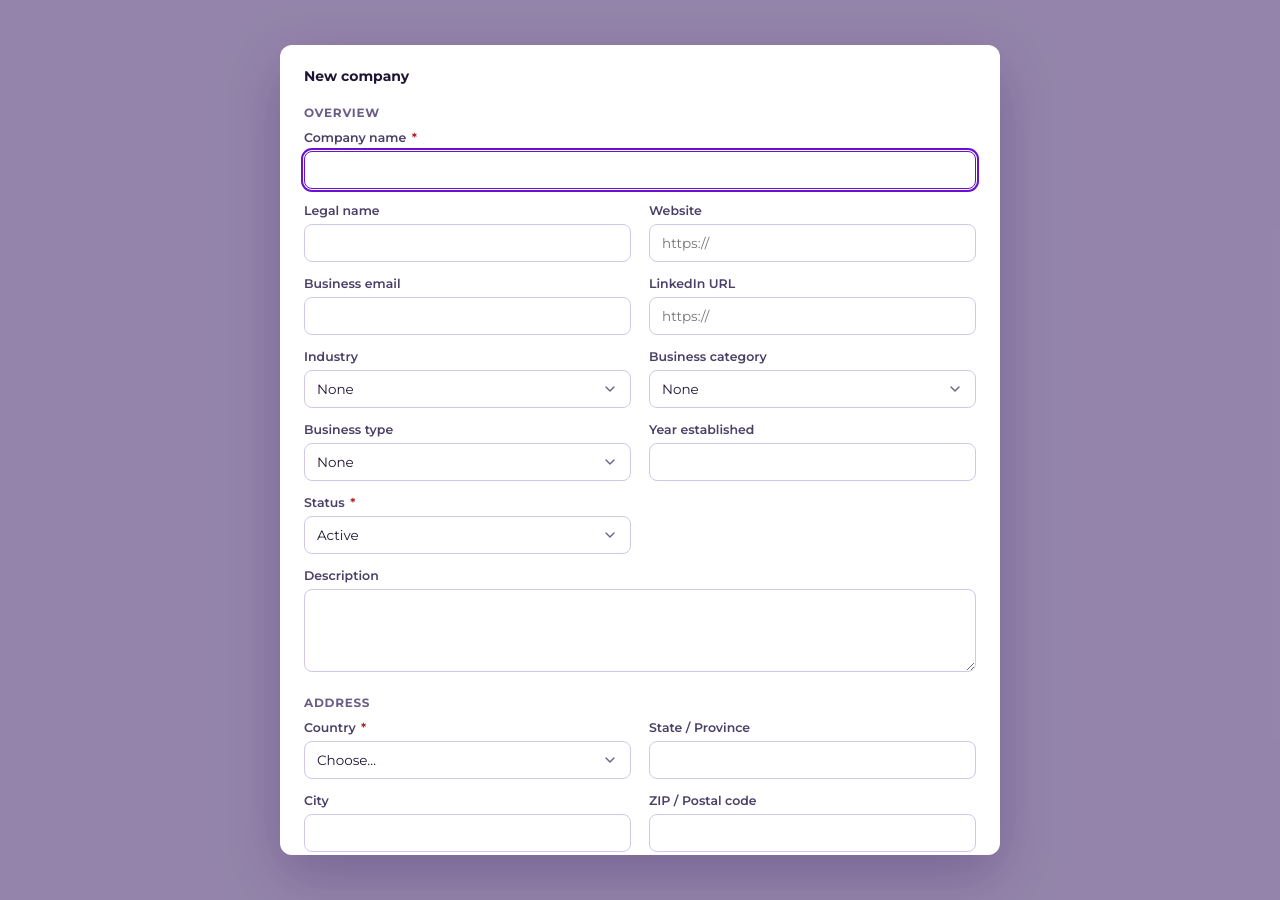
Test: CompanyModal › shows the field message and the form note for a 400 with array issue paths
The width and height of the screenshot is (1280, 900).
Type "Acme Retail" into the field labelled "Company name *" at (640, 170), box [304, 151, 976, 189]
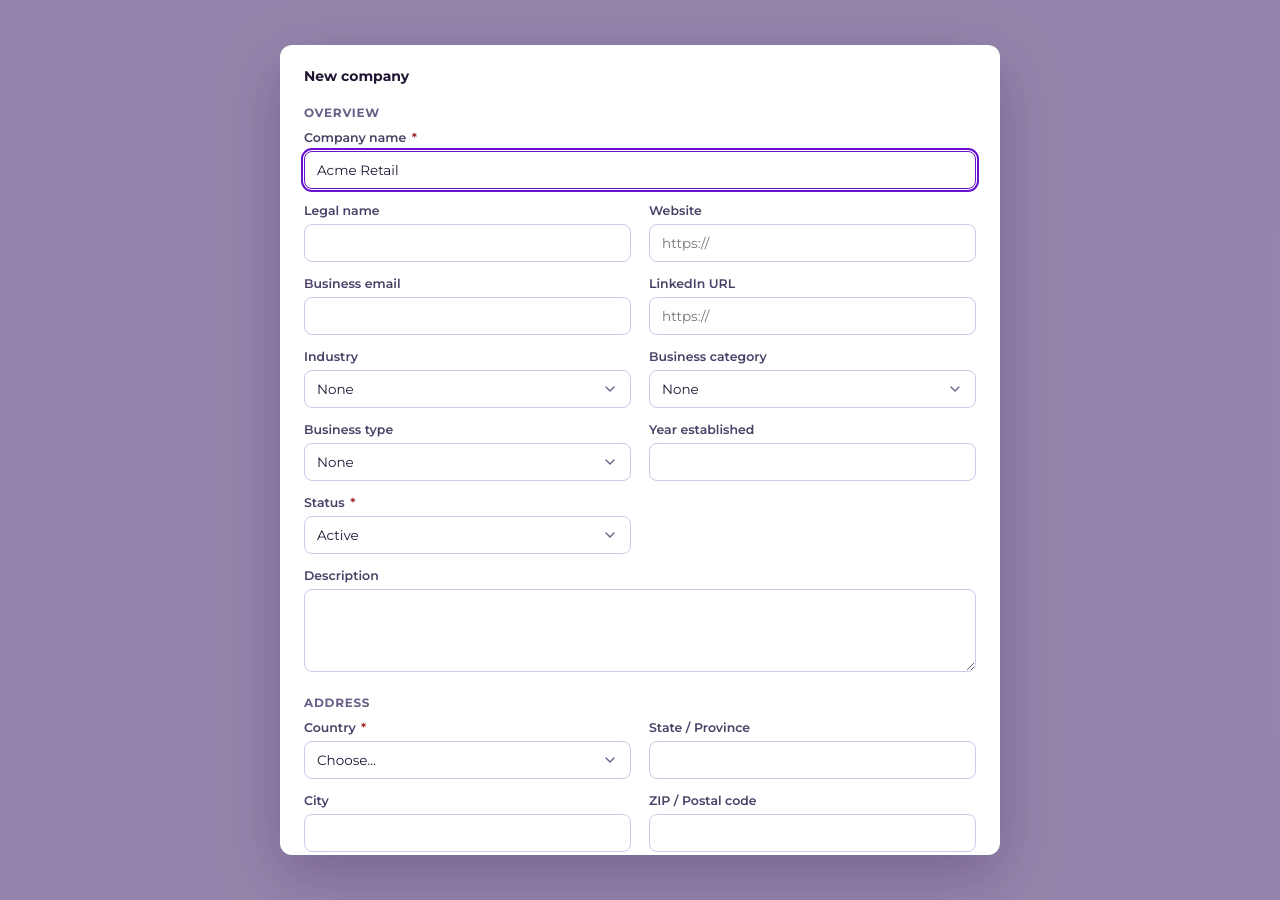
Select "India" in the dropdown labelled "Country *" at (468, 760), box [304, 741, 631, 779]
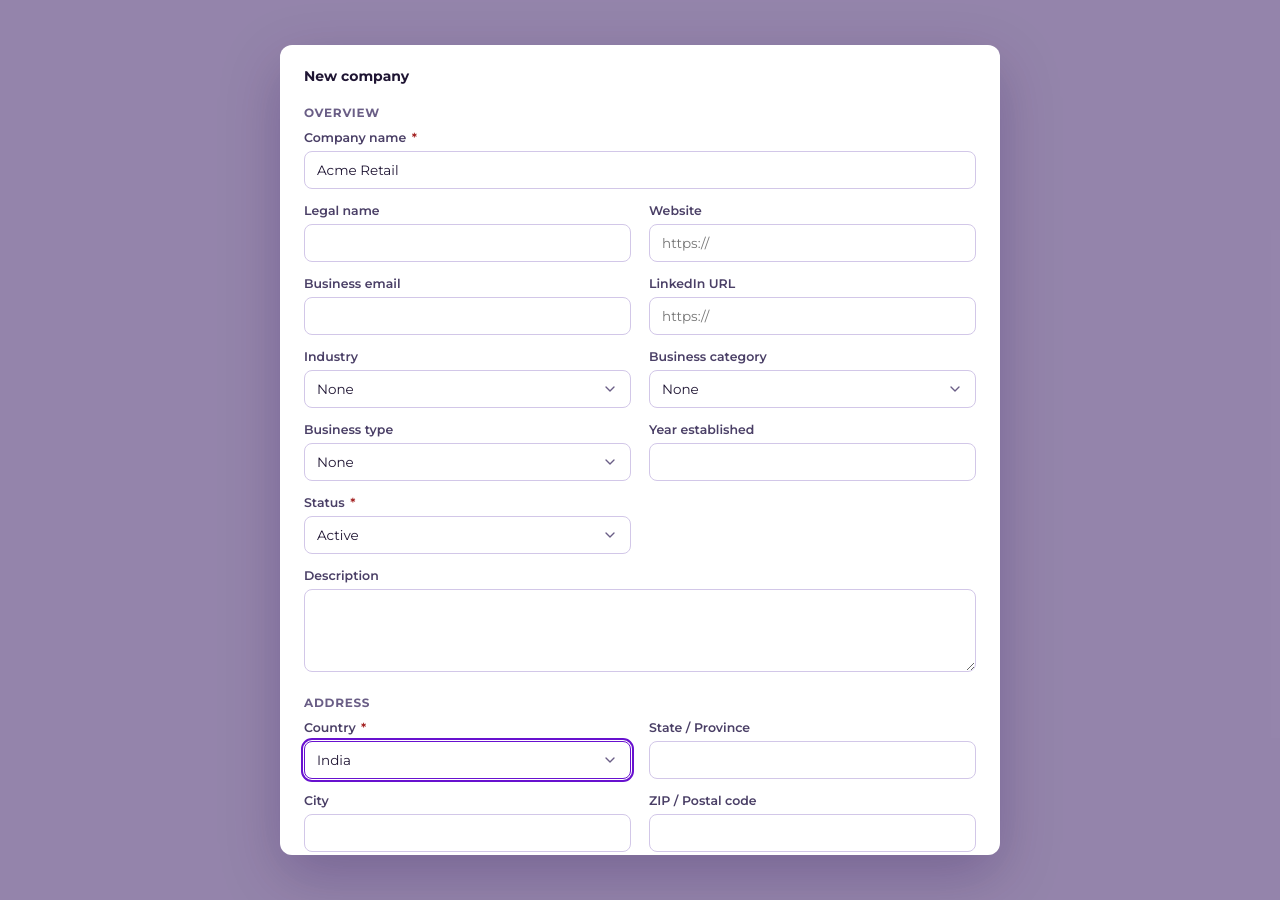
Select "Retail" in the dropdown labelled "Industry" at (468, 389), box [304, 370, 631, 408]
(page scrolled)
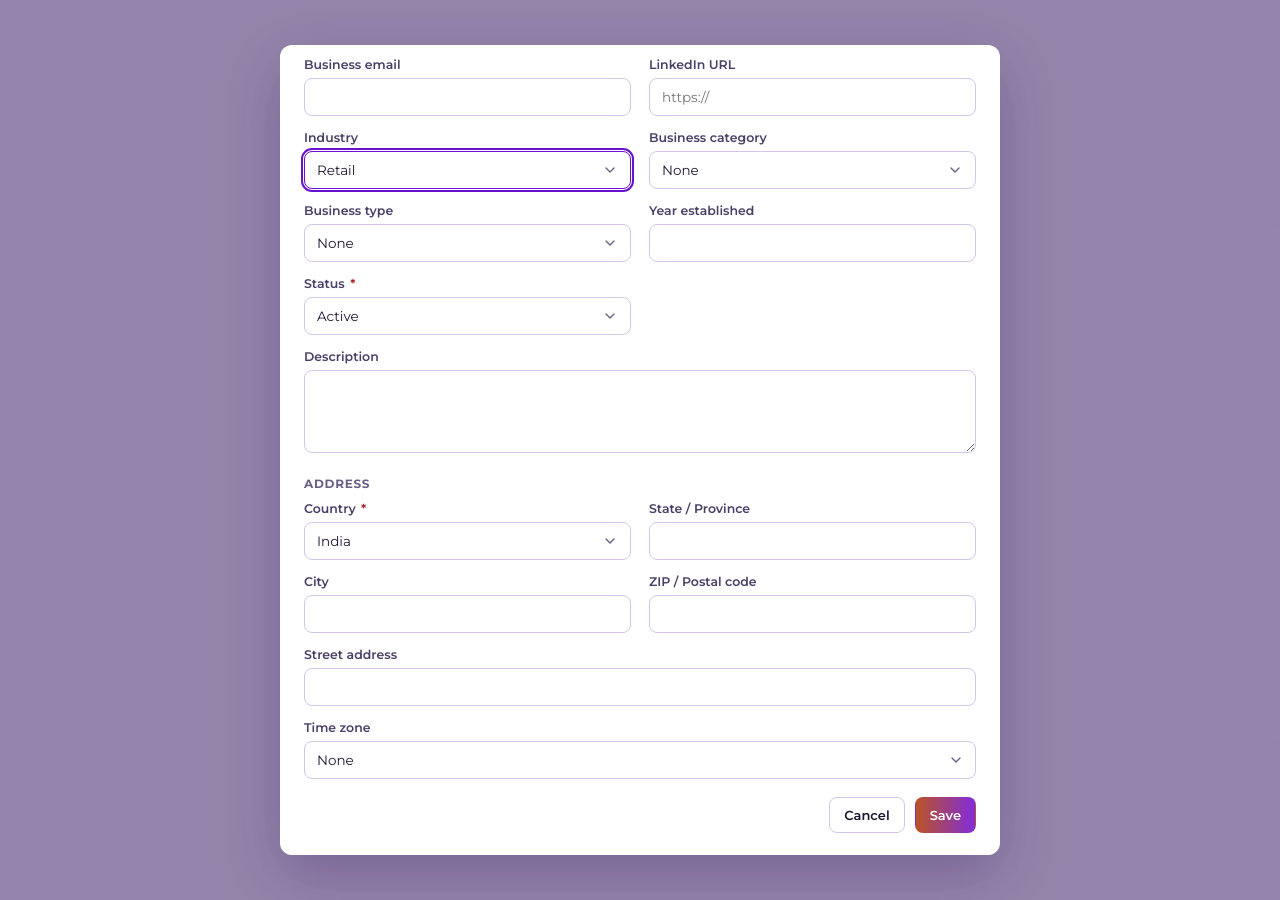
Click the button "Save" at (945, 815), box [915, 797, 976, 833]
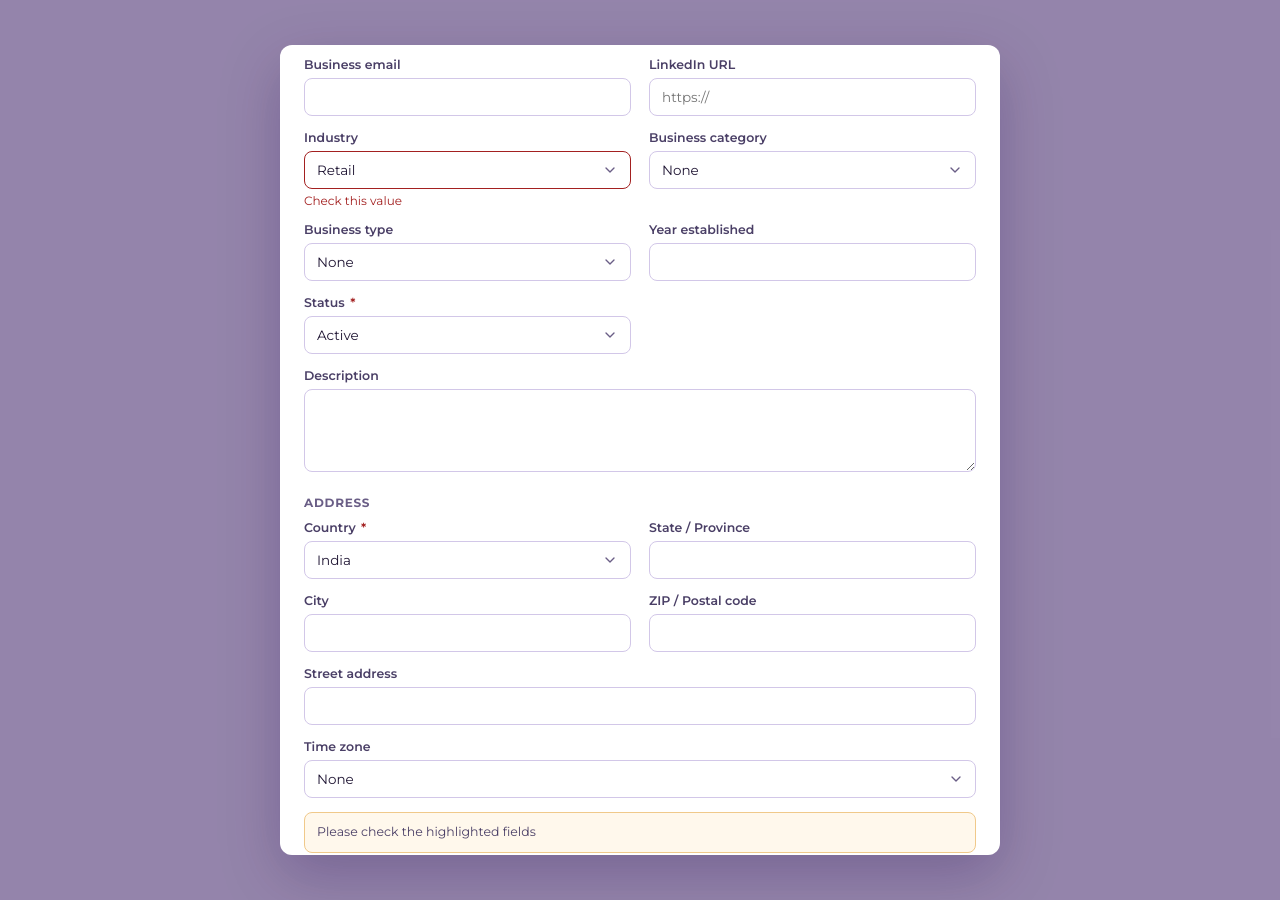
Now the text "Check this value" is shown, box [304, 193, 402, 208]
